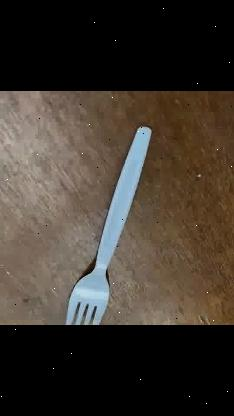Others: (64, 124, 152, 324)
